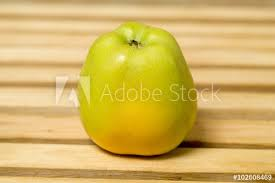apple: (80, 21, 208, 158)
